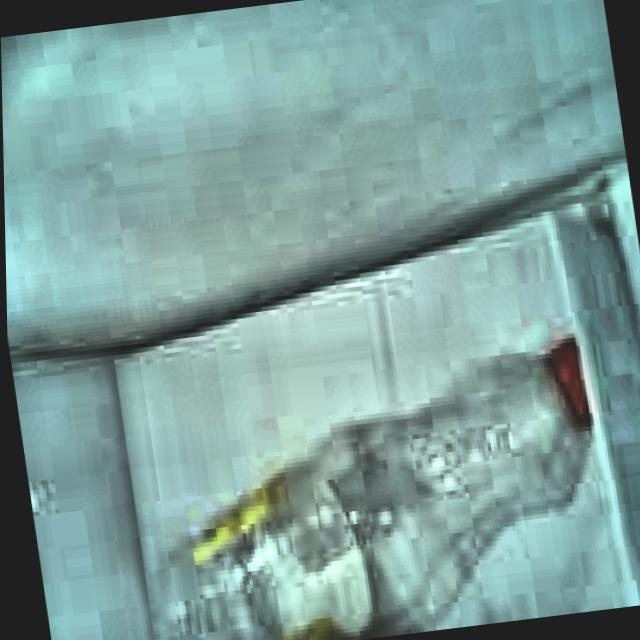Bottles: (95, 317, 640, 640)
